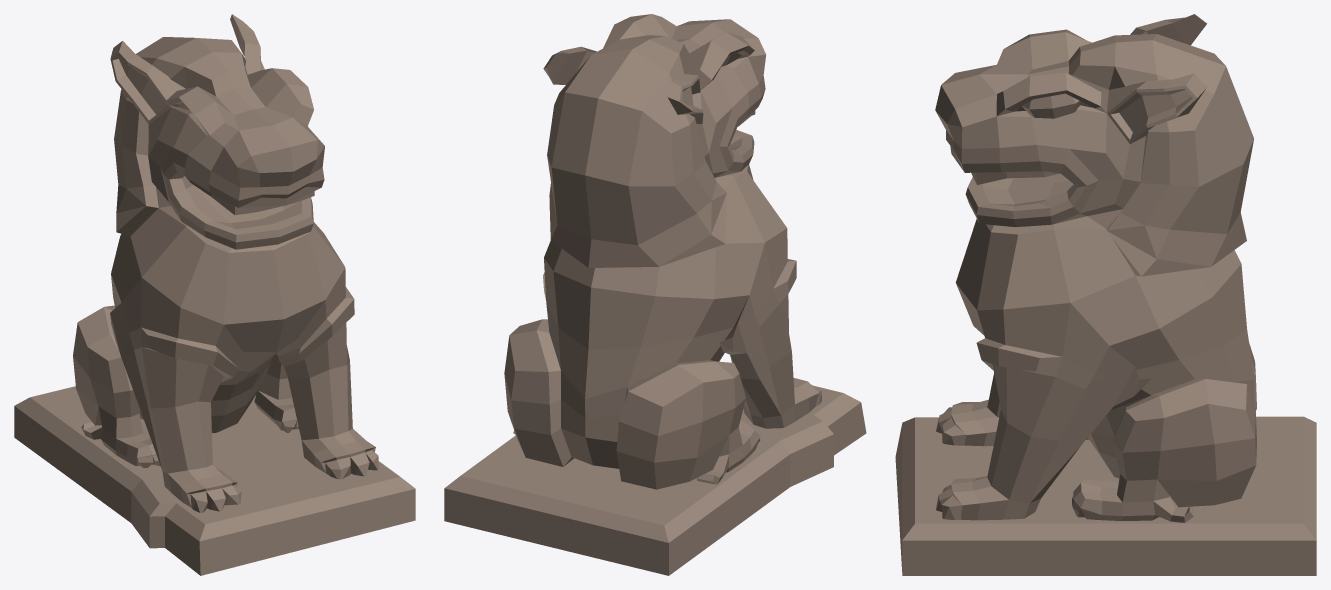
Rendered from SM_Sculpture_11.fbx.
3 renders of one model, left to right at view 1: azimuth 30°, elevation 25°; view 2: azimuth 150°, elevation 25°; view 3: azimuth 270°, elevation 25°, orthographic. The views are drawn at different scales.
Parts seen in each view (by area): view 1: Cylinder; view 2: Cylinder; view 3: Cylinder.
Part boxes in pixels (<box>): Cylinder: <box>14,14,415,575</box>; Cylinder: <box>444,14,866,575</box>; Cylinder: <box>895,14,1316,575</box>.
Size of the model in its own units: 211 by 377 by 302.
